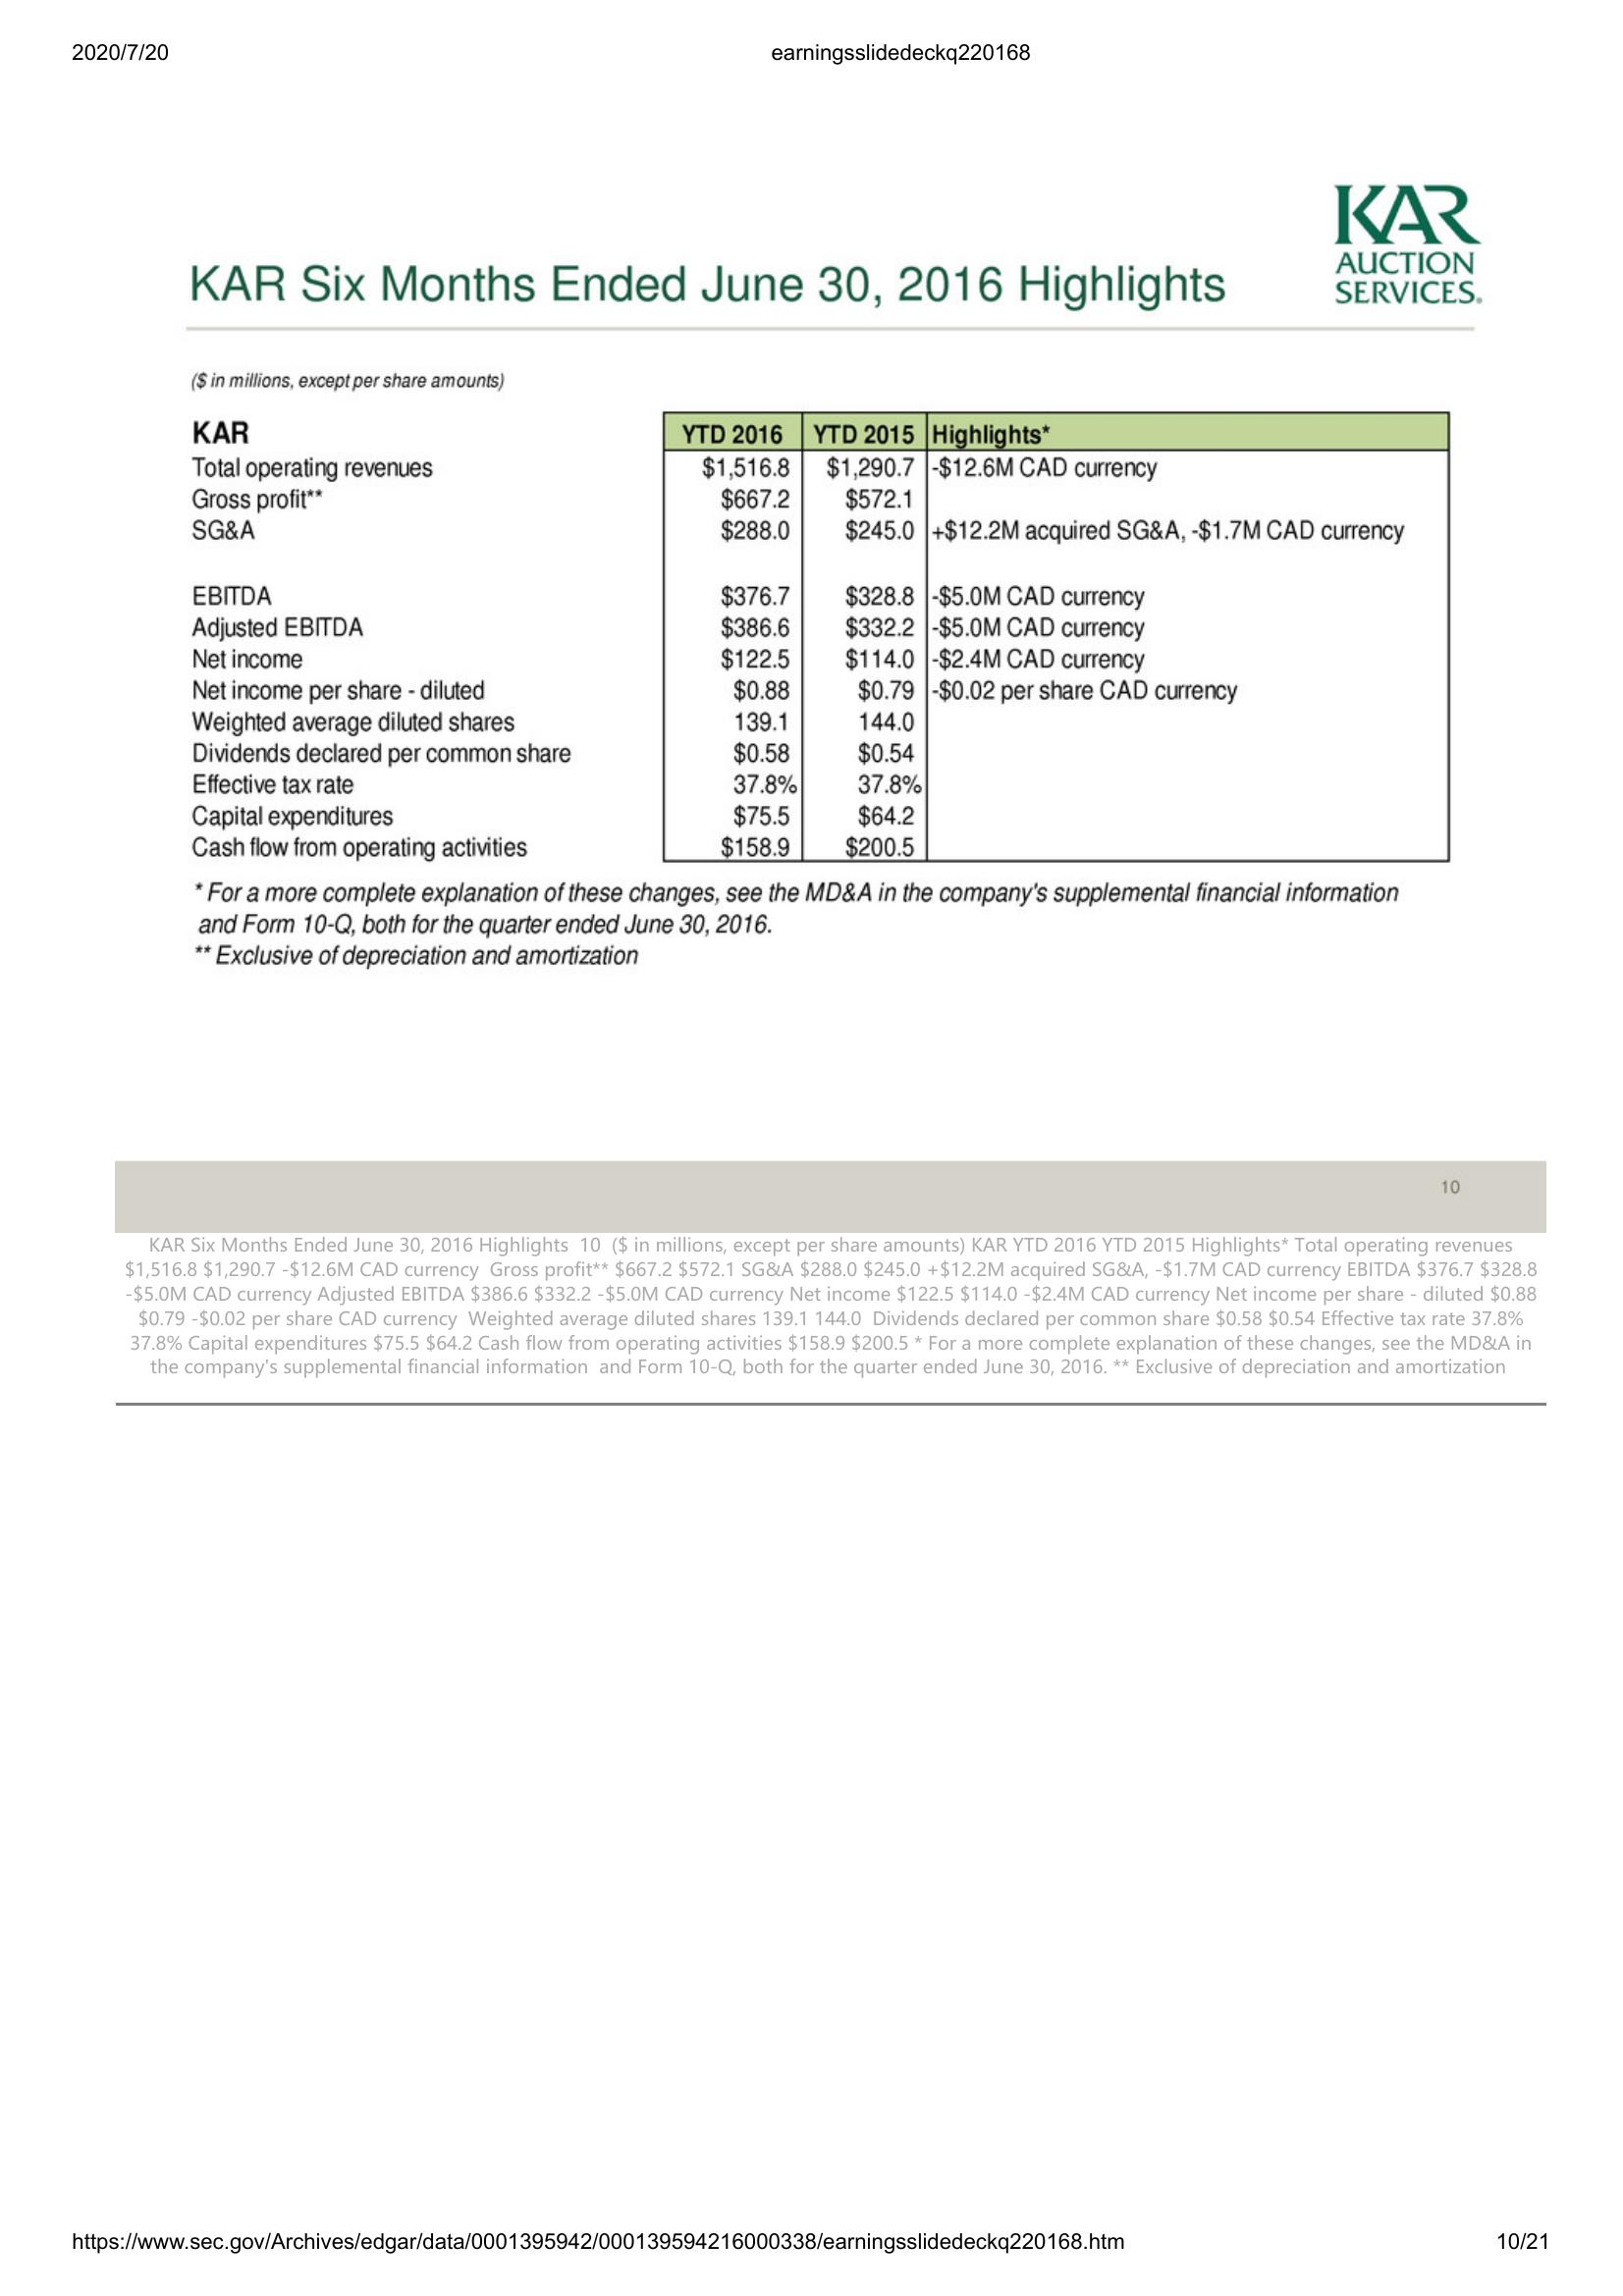table: (659, 407, 1451, 869)
